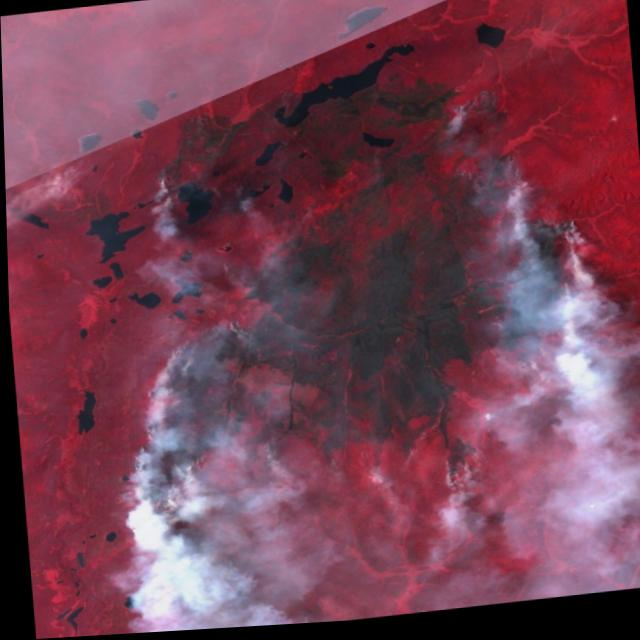fire: (92, 84, 606, 520)
